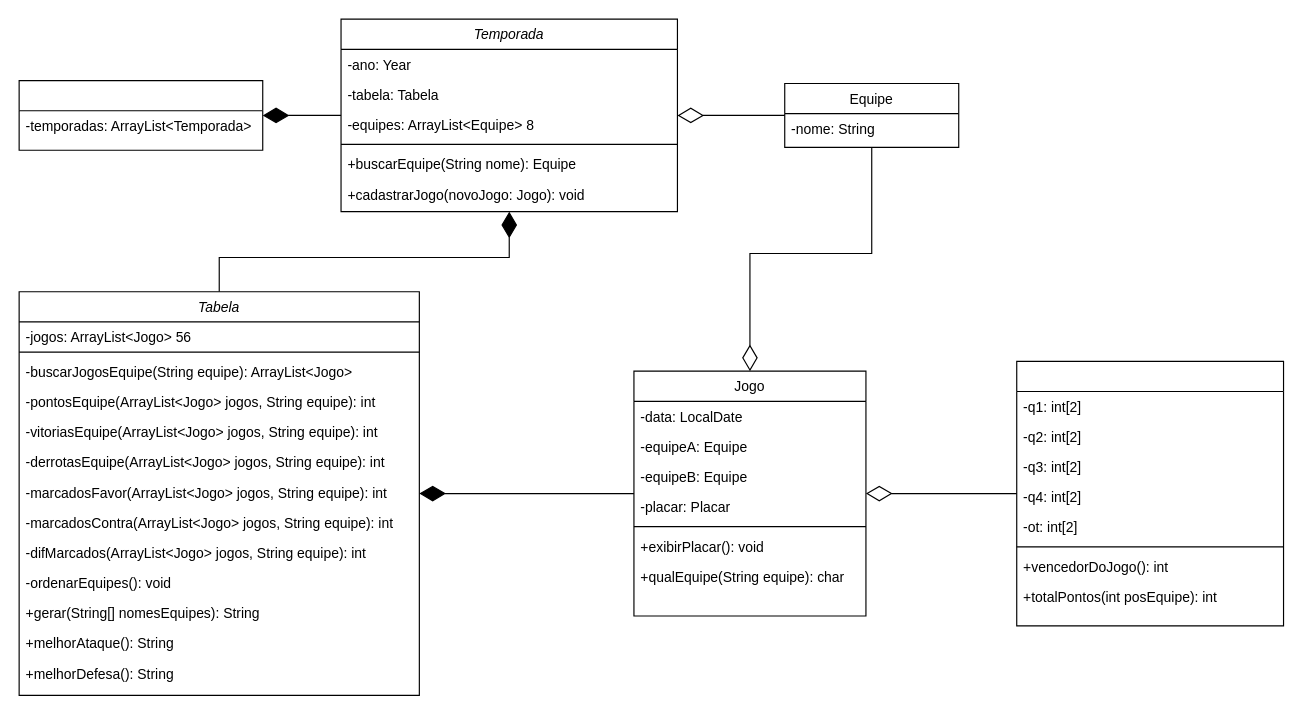
Image size: 1303x715. Some labels were removed from this diagram. Each missing label, with the box of its shape:
App: (18, 79, 263, 150)
Placar: (1016, 360, 1284, 626)
